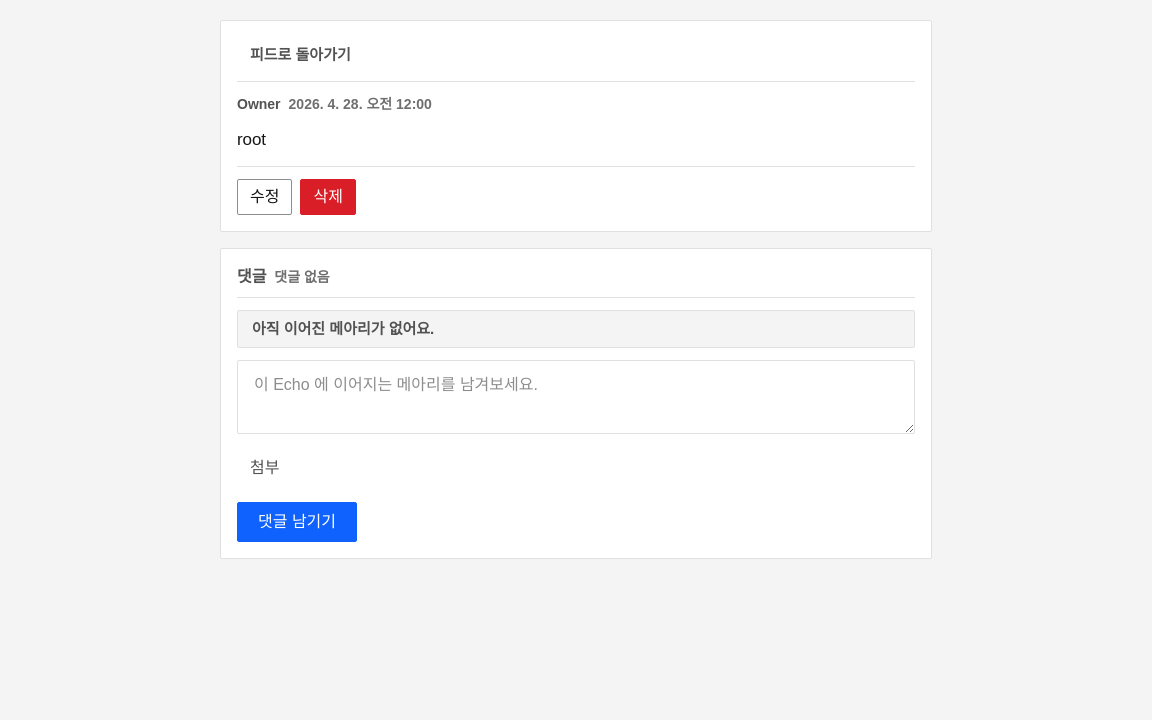
Test: EchoDetailPage › 삭제 확인 후 archived read-only 상태를 보여준다
The width and height of the screenshot is (1152, 720).
Check: the text "root" is shown, box [237,130,266,149]
Click the button "삭제". click: (328, 197)
box: [300,179,356,215]
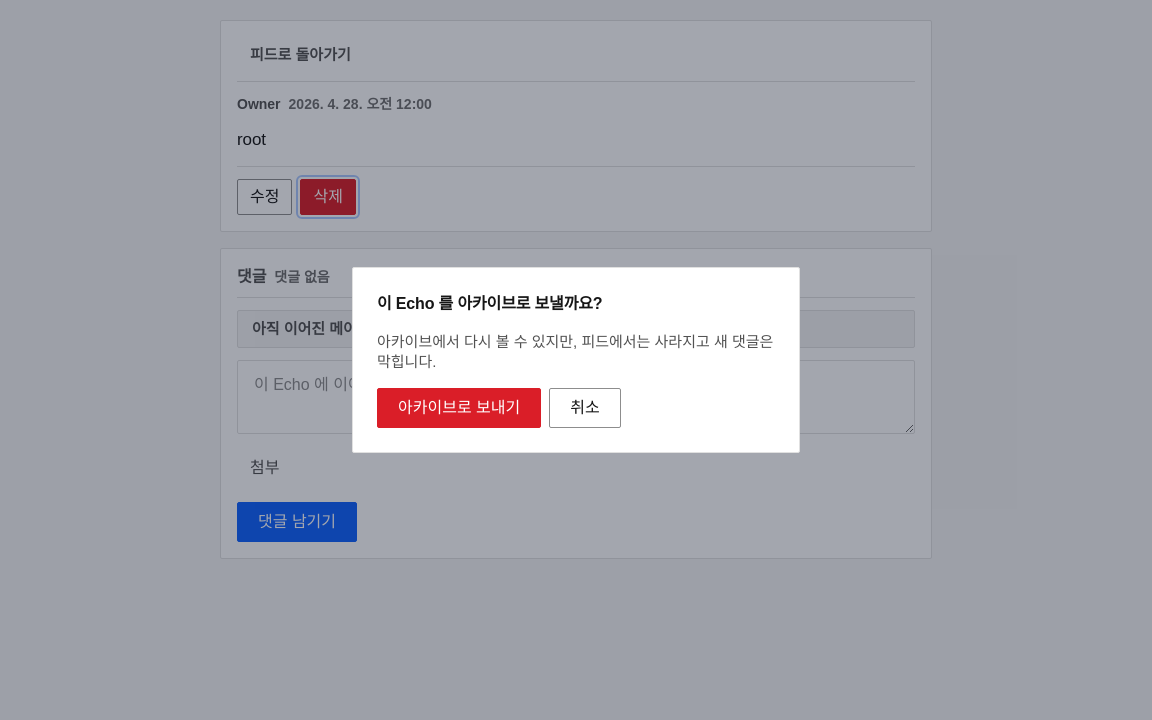
Check: the heading "이 Echo 를 아카이브로 보낼까요?" is shown, box [377,295,602,312]
Click the button "아카이브로 보내기". click: (459, 408)
box: [377,388,541,428]
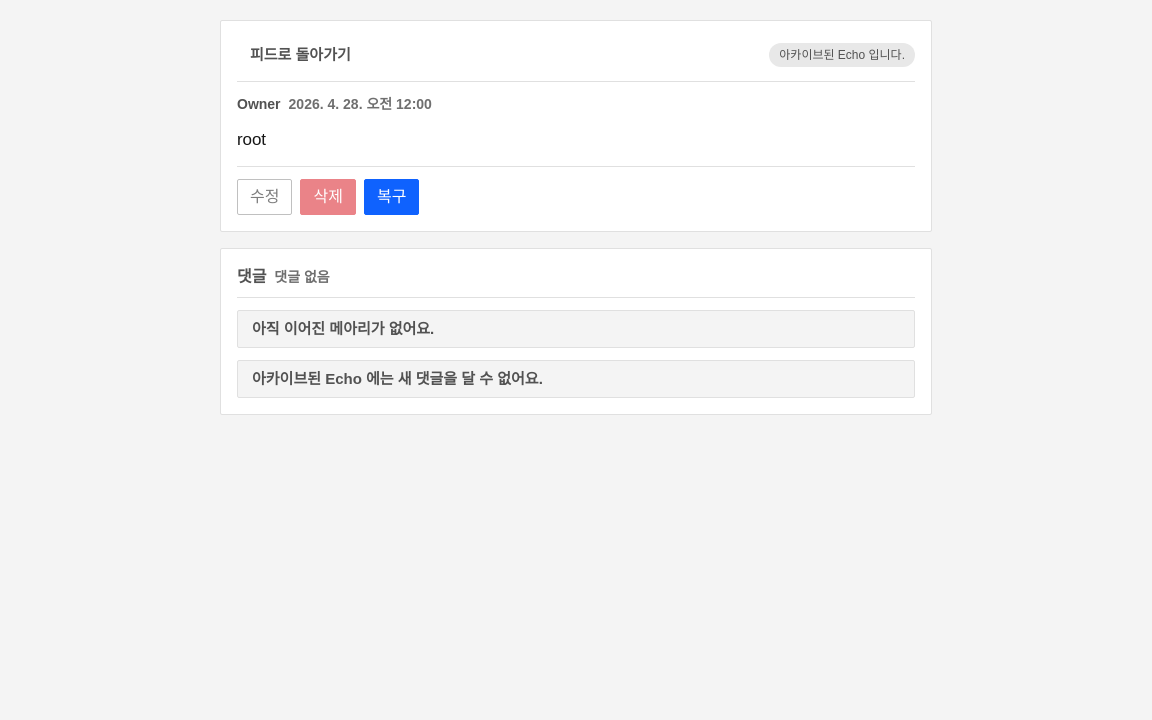
Check: the text "아카이브된 Echo 입니다." is shown, box [769,43,915,67]
